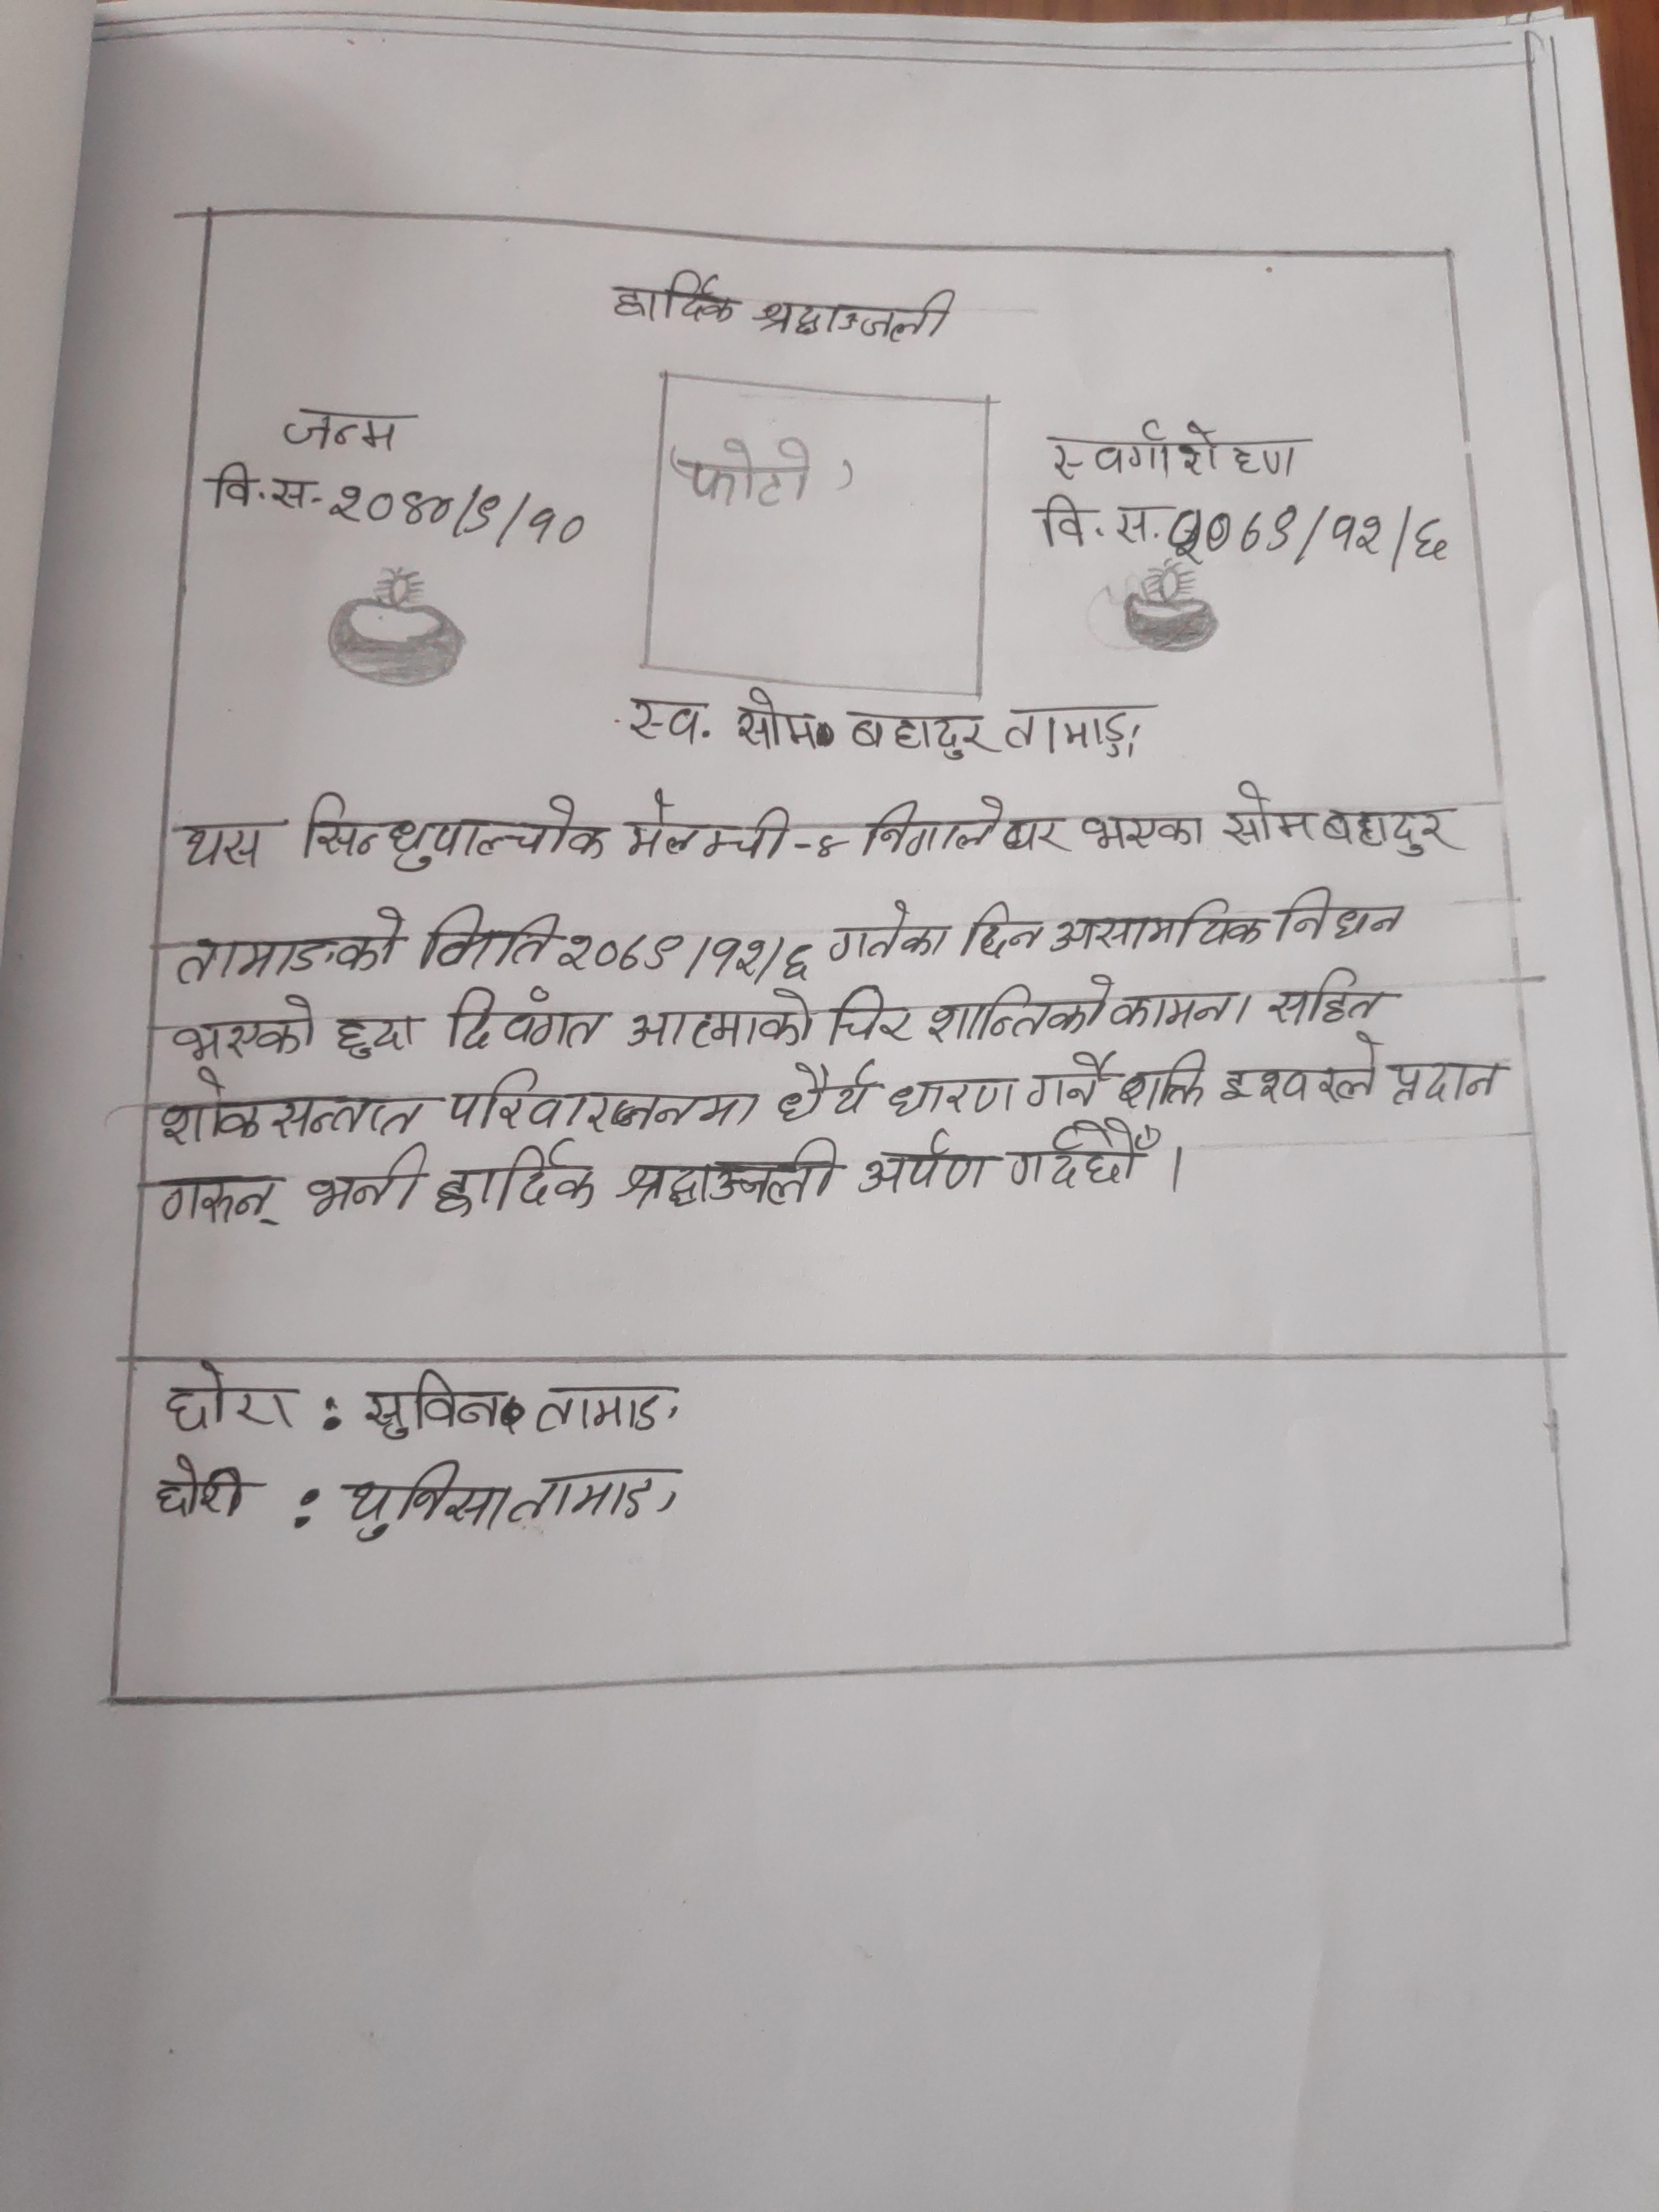text: (298, 787, 610, 869), (153, 1066, 439, 1148), (443, 1061, 762, 1134), (1166, 503, 1453, 575), (329, 477, 586, 556), (174, 902, 399, 988), (617, 1139, 849, 1212), (1037, 421, 1309, 481), (437, 1134, 601, 1221), (343, 1456, 505, 1543), (559, 932, 817, 984), (1051, 895, 1270, 954), (624, 786, 793, 862), (751, 280, 957, 343), (624, 988, 823, 1052), (1223, 1031, 1385, 1109), (924, 975, 1114, 1040), (157, 1359, 303, 1440), (444, 981, 612, 1052), (504, 1465, 681, 1531), (361, 1366, 505, 1440), (169, 995, 321, 1066), (530, 1372, 681, 1440), (1011, 1120, 1161, 1186), (420, 902, 565, 970), (866, 791, 1006, 860), (687, 434, 819, 507), (1000, 697, 1162, 756), (859, 1125, 992, 1195), (842, 707, 999, 763), (610, 265, 744, 329), (301, 1148, 430, 1214), (1321, 803, 1469, 860), (826, 900, 955, 965), (1270, 965, 1398, 1028), (1279, 888, 1408, 949), (272, 404, 420, 456), (153, 1449, 256, 1524), (772, 1054, 880, 1123), (1032, 491, 1162, 549), (206, 458, 322, 519), (150, 1174, 284, 1226), (1108, 989, 1251, 1036), (1387, 1054, 1507, 1109), (1222, 780, 1314, 852), (730, 686, 826, 752), (823, 982, 915, 1049), (1079, 808, 1208, 855), (179, 813, 284, 871), (892, 1075, 1025, 1120), (958, 897, 1046, 963), (1121, 1049, 1211, 1111), (1021, 1049, 1110, 1109), (333, 1005, 420, 1064), (624, 695, 716, 744), (1000, 813, 1068, 859)
